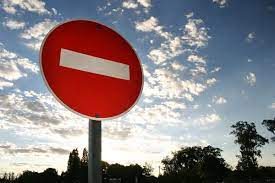No entry: (39, 19, 145, 120)
